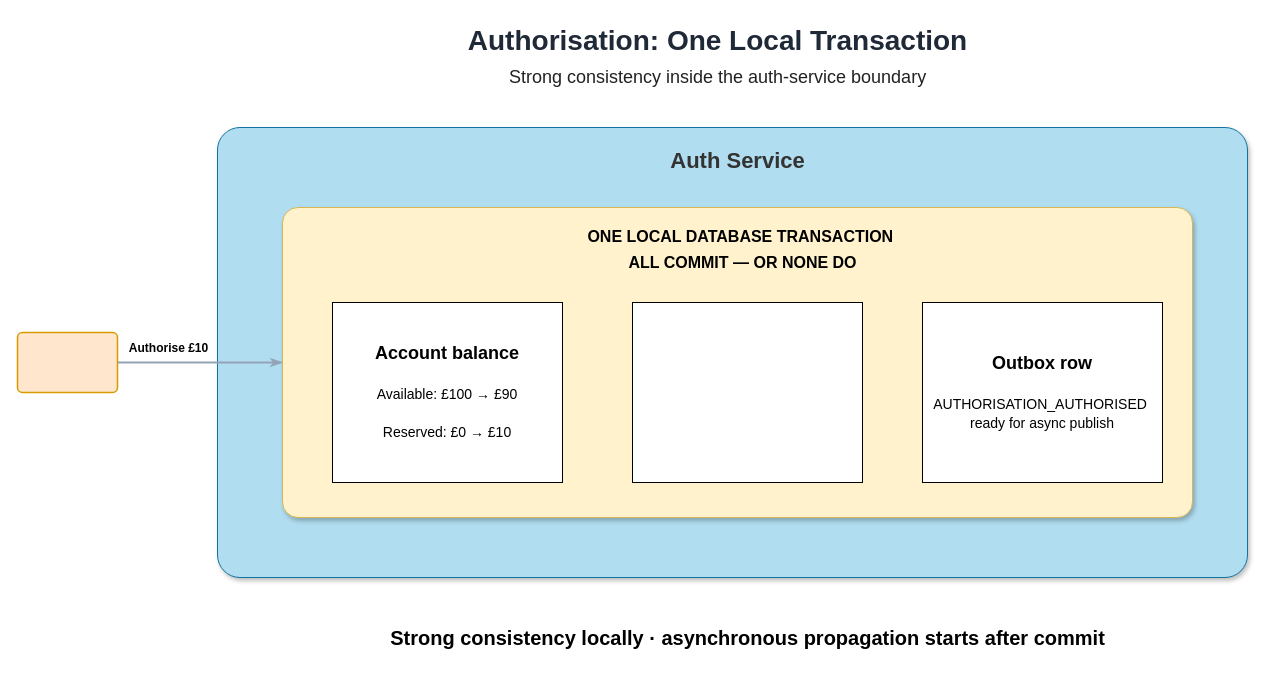
This 1272x674 diagram has some shape labels left out. Here are the shapes that lost their labels. From the top down, the centre of each, then its label:
point 67,362: Client
point 747,392: Authorisation status: AUTHORISED
